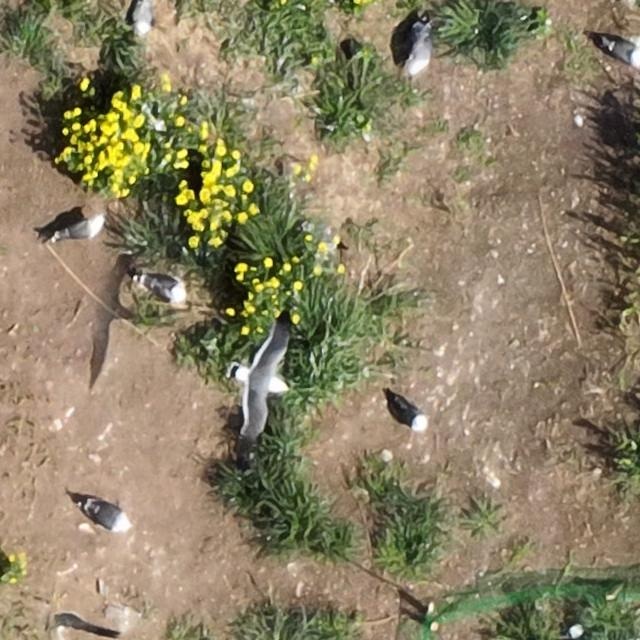F: (236, 329, 290, 441)
umineko: (85, 502, 130, 530), (145, 278, 185, 302), (394, 400, 426, 429), (57, 220, 100, 240), (411, 33, 432, 71), (607, 41, 639, 64), (133, 2, 153, 35)
